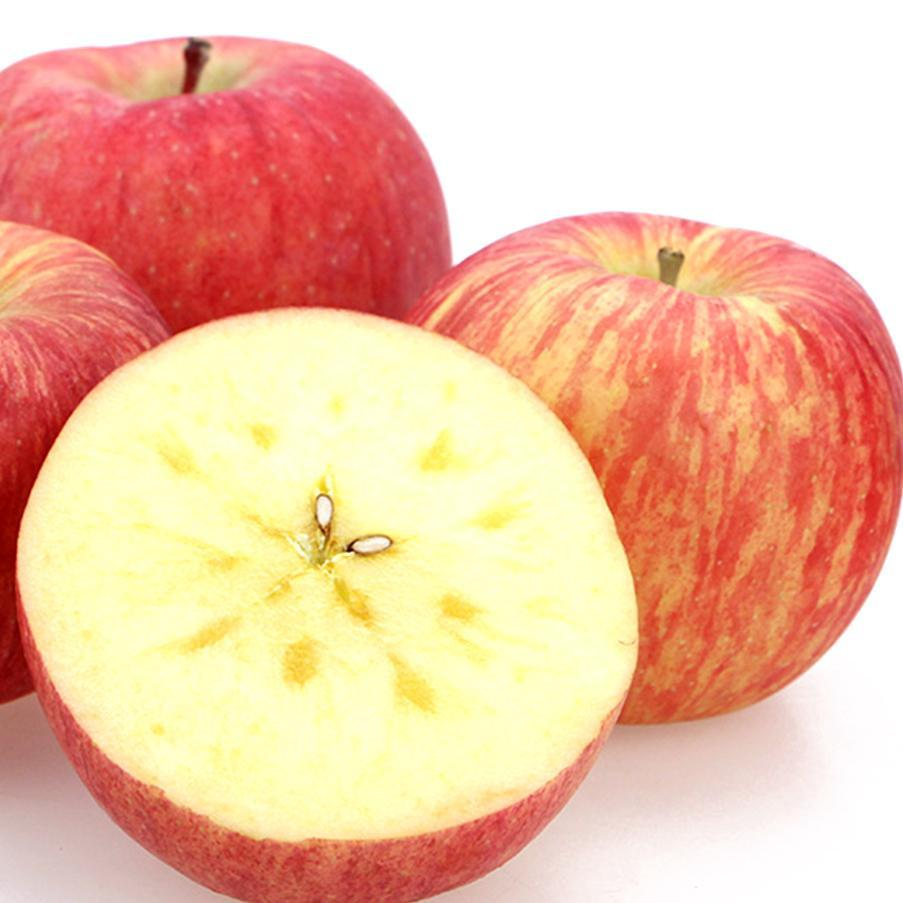apple: (390, 211, 901, 715), (1, 33, 449, 330)
